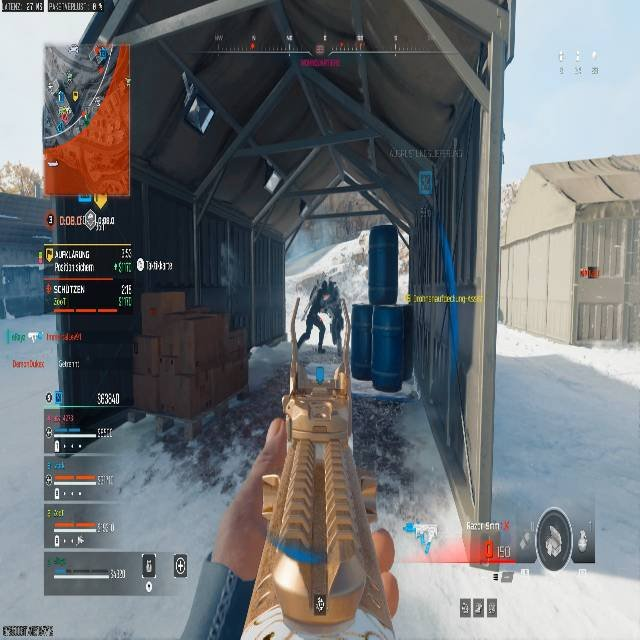player: (297, 277, 340, 351)
